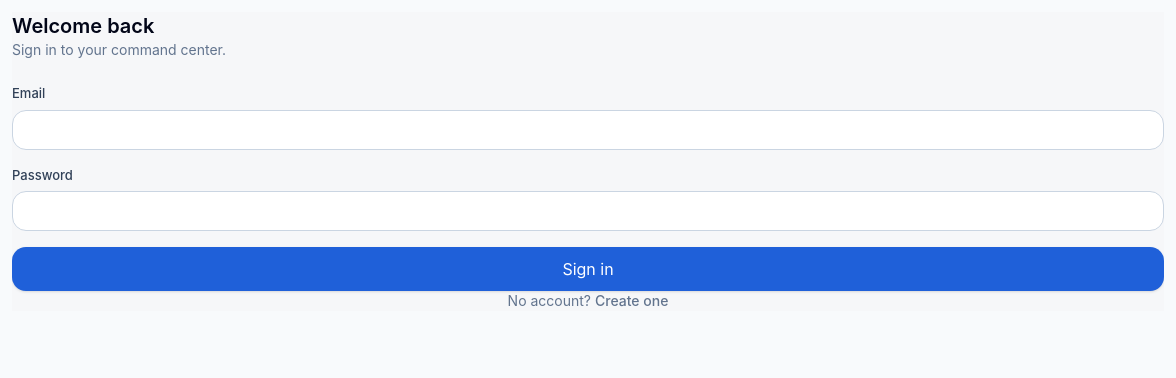
Test: LoginPage error handling › falls back to the generic message for a non-Error rejection
In the field labelled "Email": (588, 130) [12,110,1164,150], type "user@example.com"
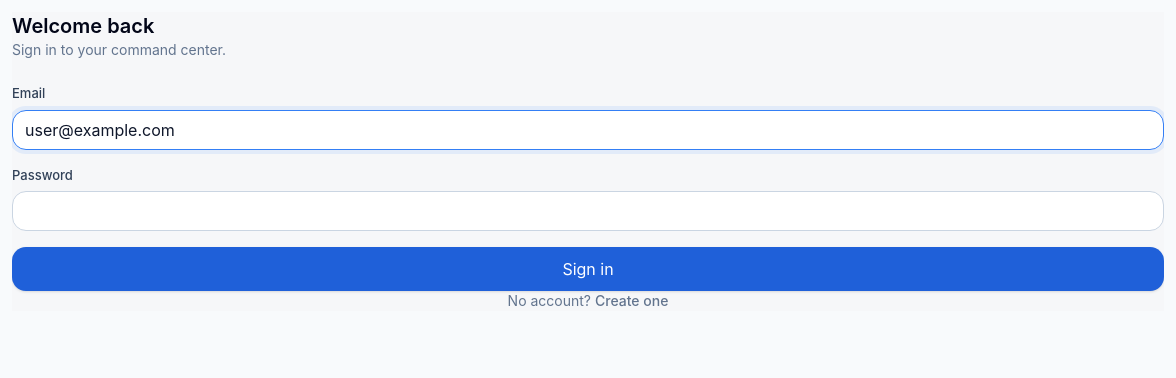
In the password field labelled "Password": (588, 211) [12,191,1164,231], type "Password123!"
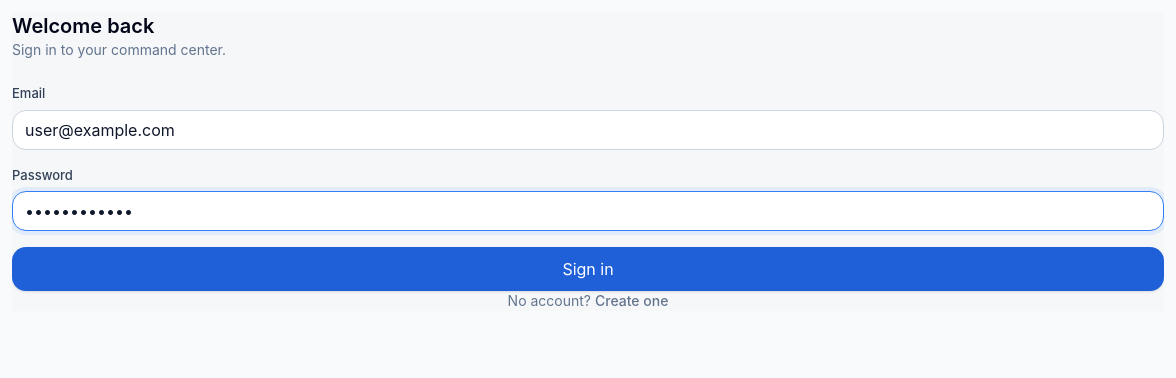
Click the button "Sign in": (588, 269) [12,247,1164,291]
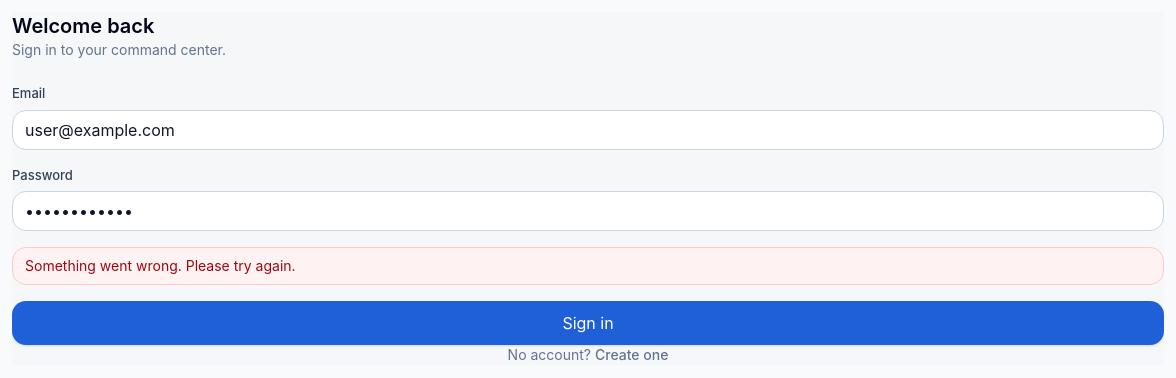
Result: the message reads "Something went wrong. Please try again." at [25,257,296,274]
